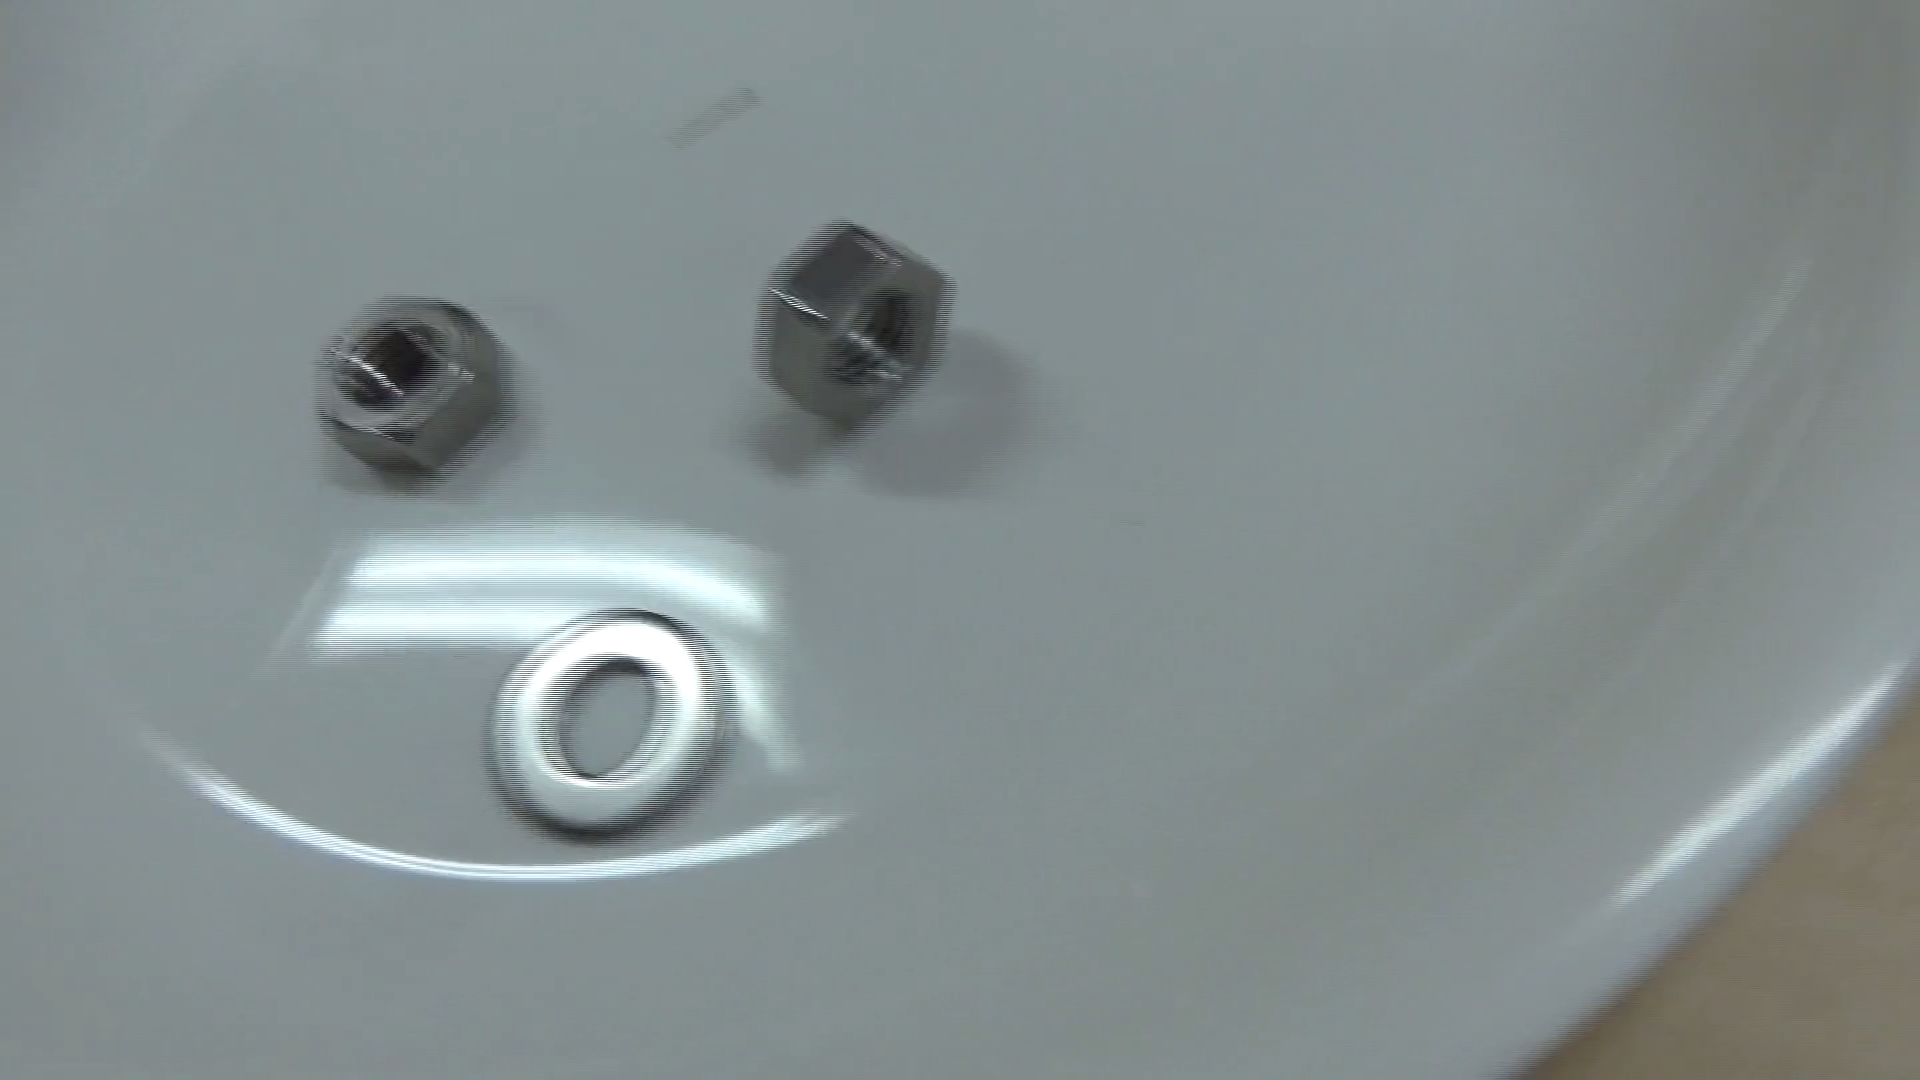nut: (745, 207, 949, 443), (306, 295, 509, 484)
washer: (483, 603, 738, 851)
